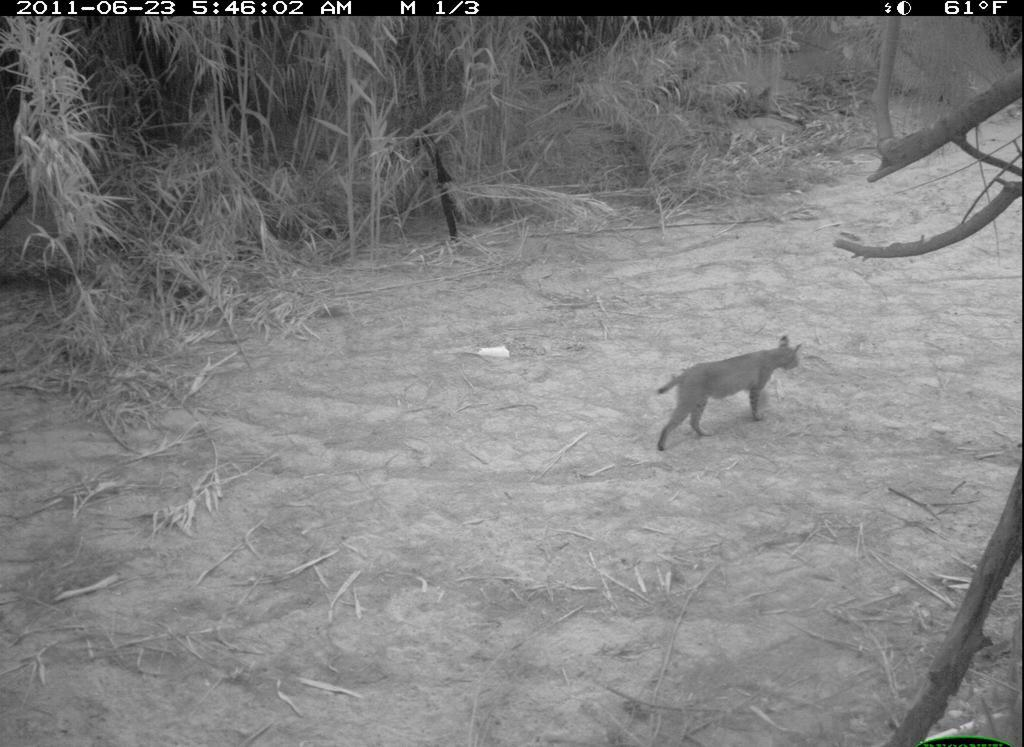bobcat: (655, 333, 812, 455)
